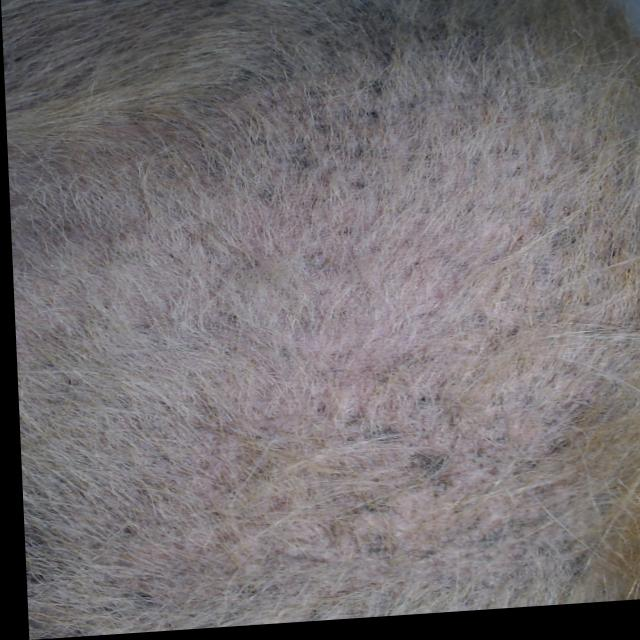demodicosis: (203, 137, 543, 502)
